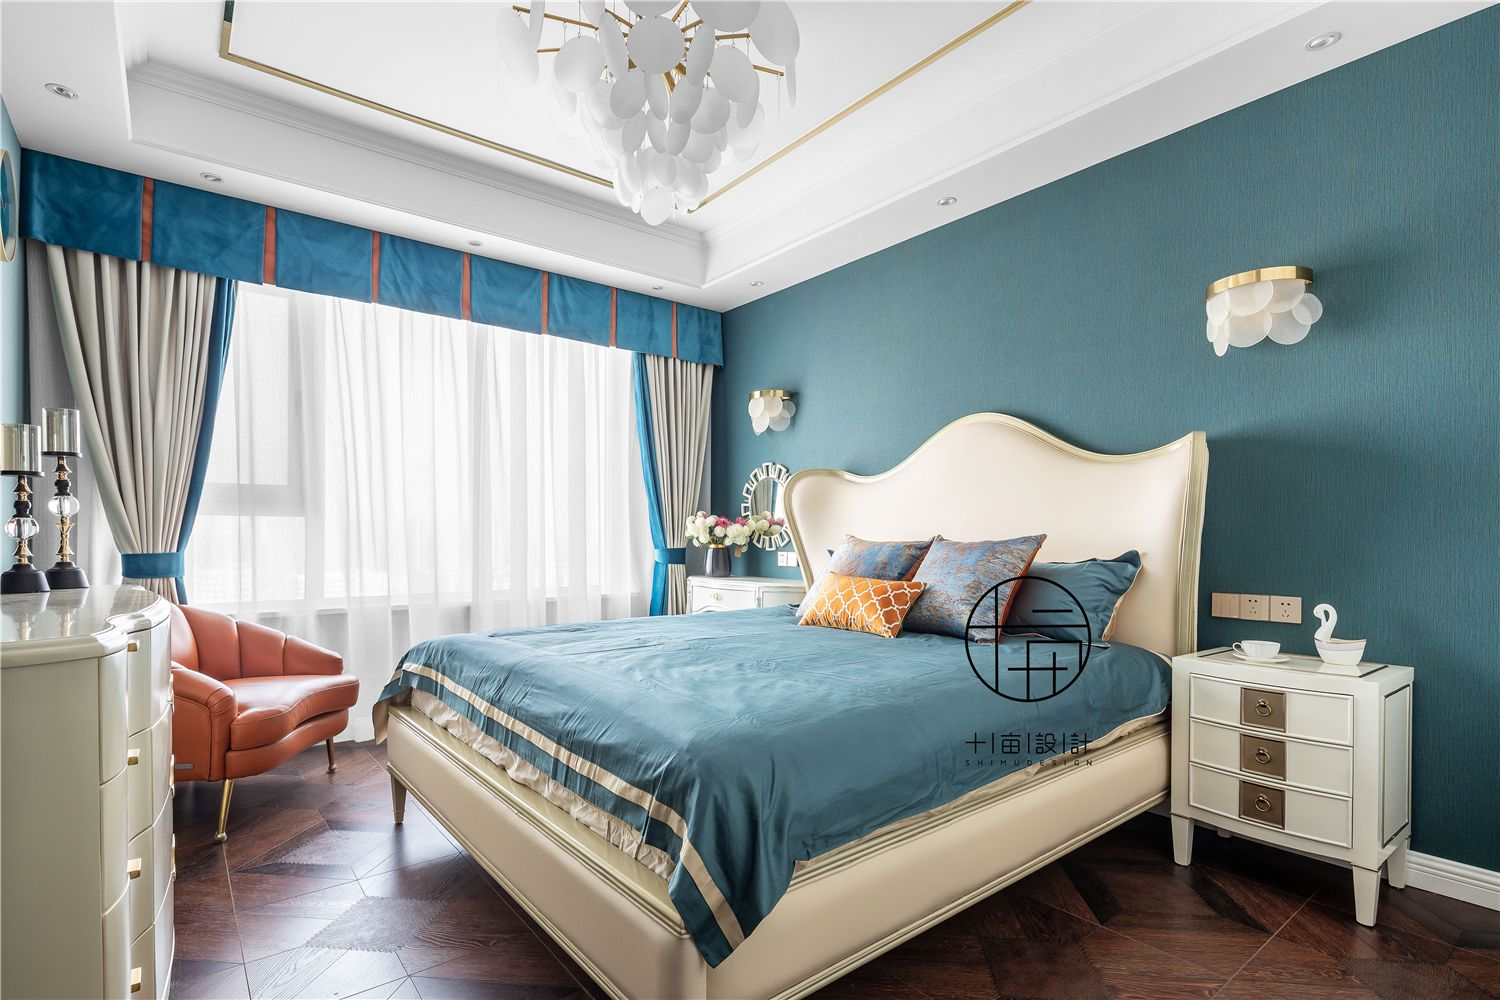床: (373, 608, 1141, 965)
枕头: (791, 526, 1113, 636)
灯: (521, 0, 794, 217), (4, 390, 93, 607), (1199, 256, 1325, 364), (735, 381, 798, 448), (38, 80, 85, 104), (1296, 31, 1336, 52), (924, 195, 956, 213)
